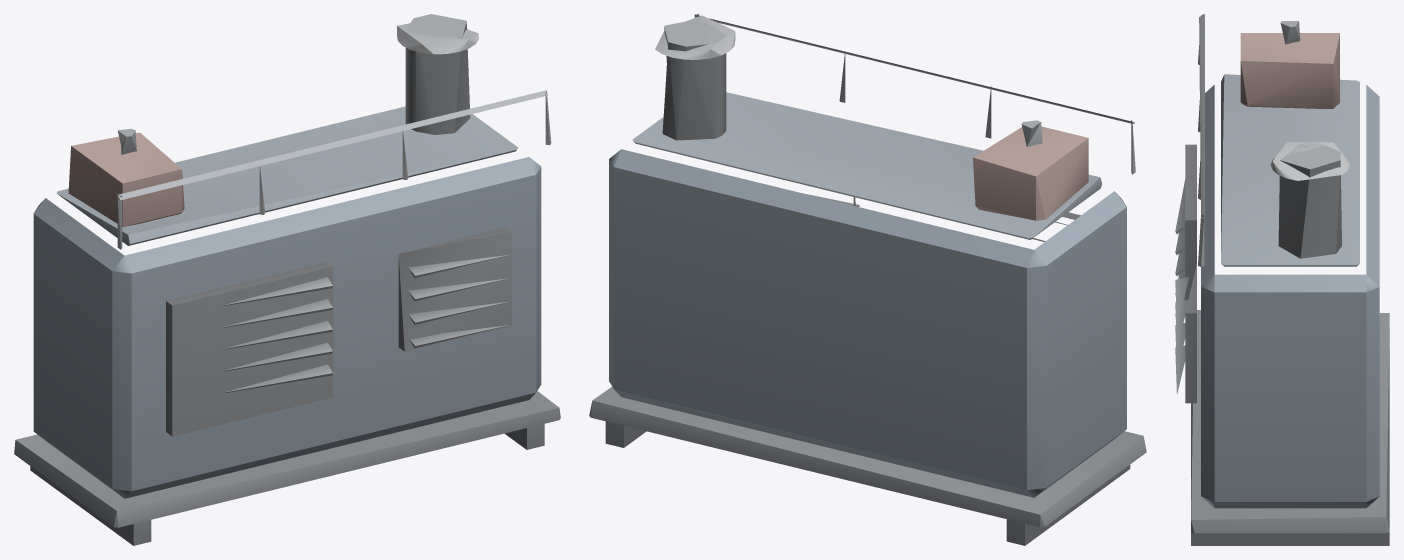
File: generator.lod1.glb
3 renders of one model, left to right at view 1: azimuth 30°, elevation 25°; view 2: azimuth 150°, elevation 25°; view 3: azimuth 270°, elevation 25°, orthographic. The views are drawn at different scales.
Bounding box in the file's own units: 2.5 × 2.05 × 1.08.
